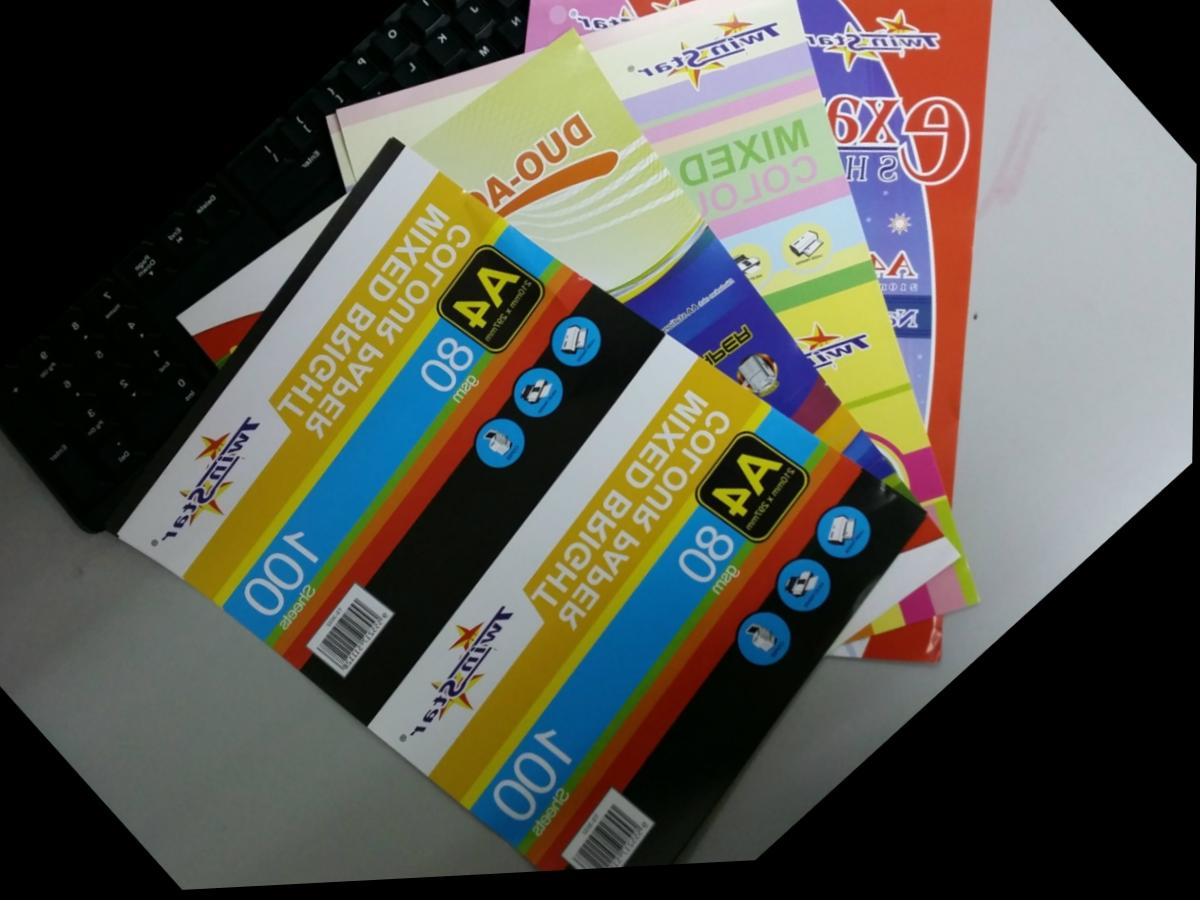paper: (0, 0, 1195, 895)
